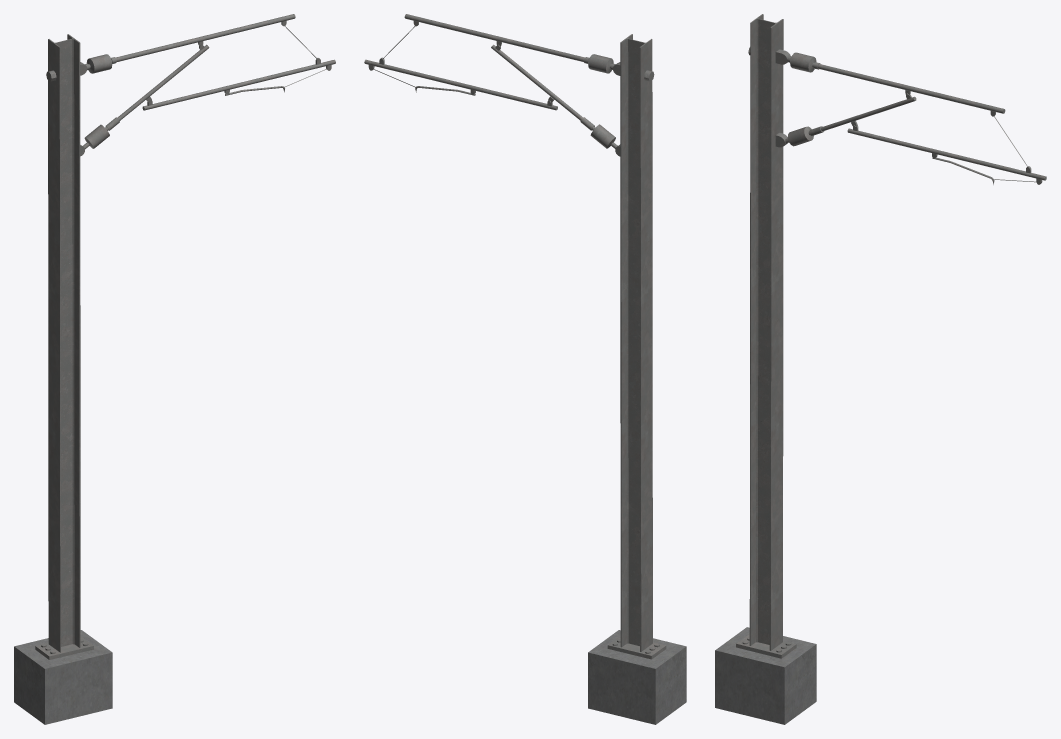
Rendered from Gantry-F.fbx.
3 renders of one model, left to right at view 1: azimuth 30°, elevation 25°; view 2: azimuth 150°, elevation 25°; view 3: azimuth 330°, elevation 25°, orthographic. The views are drawn at different scales.
Parts seen in each view (by area): view 1: Gantry-F; view 2: Gantry-F; view 3: Gantry-F.
Boxes of the visible parts, x1,y1,x2,y2 form: Gantry-F: (14, 14, 335, 724); Gantry-F: (364, 14, 686, 724); Gantry-F: (715, 14, 1046, 724).
Bounding box in the file's own units: 4.57 × 9.49 × 0.8.
